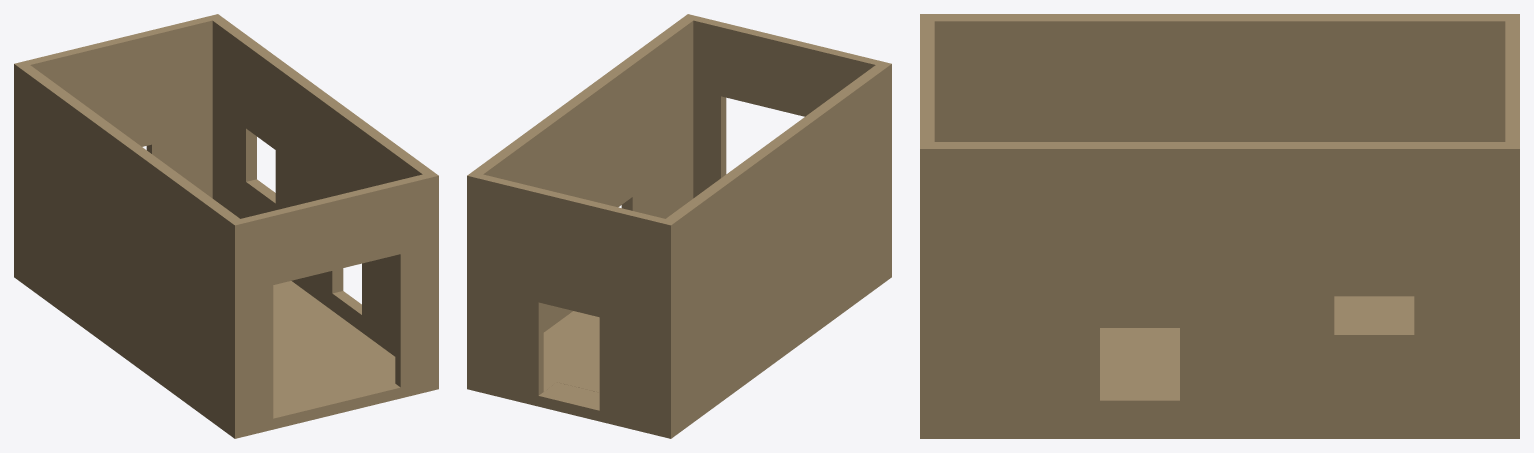
File: rectangular-module.dae
3 renders of one model, left to right at view 1: azimuth 30°, elevation 25°; view 2: azimuth 150°, elevation 25°; view 3: azimuth 270°, elevation 25°, orthographic. The views are drawn at different scales.
Visible parts, largest first — view 1: rectangular-module; view 2: rectangular-module; view 3: rectangular-module.
Part boxes in pixels (x1=…): rectangular-module: x1=14, y1=14, x2=438, y2=438; rectangular-module: x1=467, y1=14, x2=891, y2=438; rectangular-module: x1=920, y1=14, x2=1519, y2=438.
Bounding box in the file's own units: 3.2 × 6 × 3.2.
